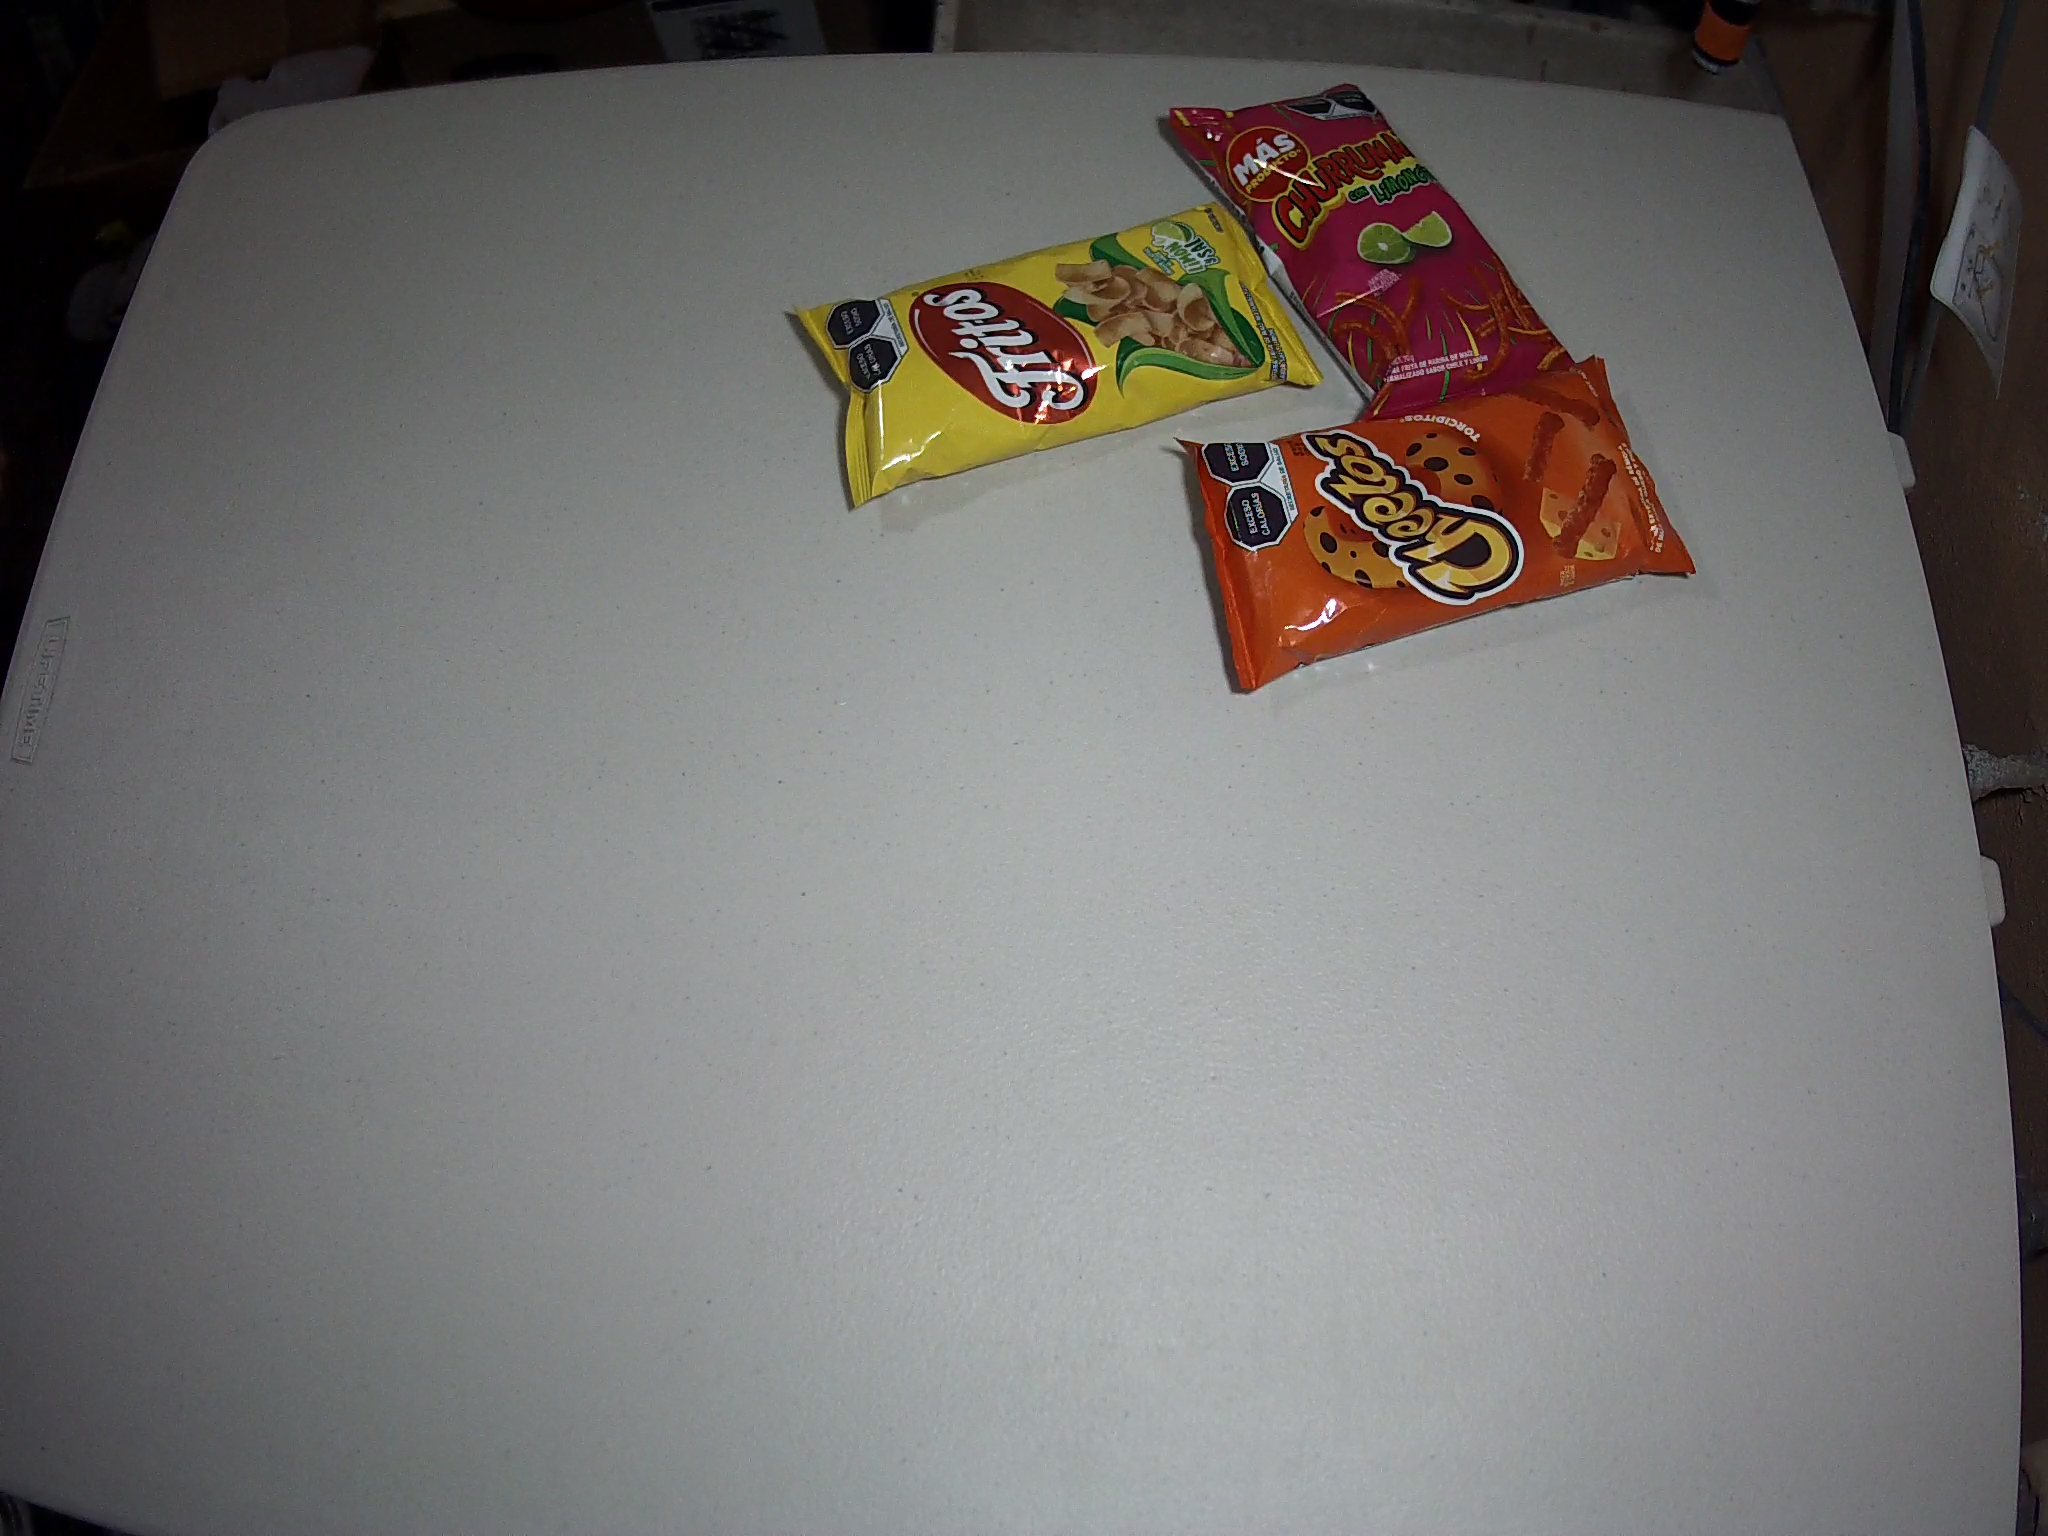CheetosTorciditos_55_F: (1177, 357, 1698, 692)
Churrumais_70_F: (1164, 82, 1577, 424)
FritosSalLimon_65_F: (792, 200, 1326, 508)
